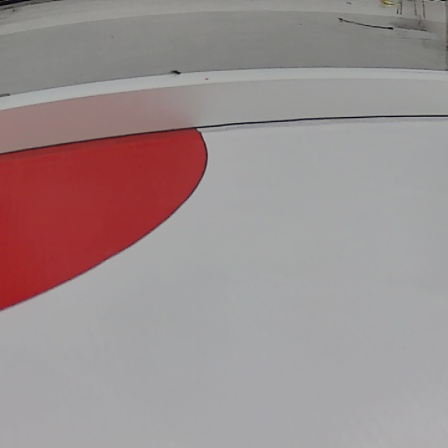red_base: (2, 129, 211, 319)
